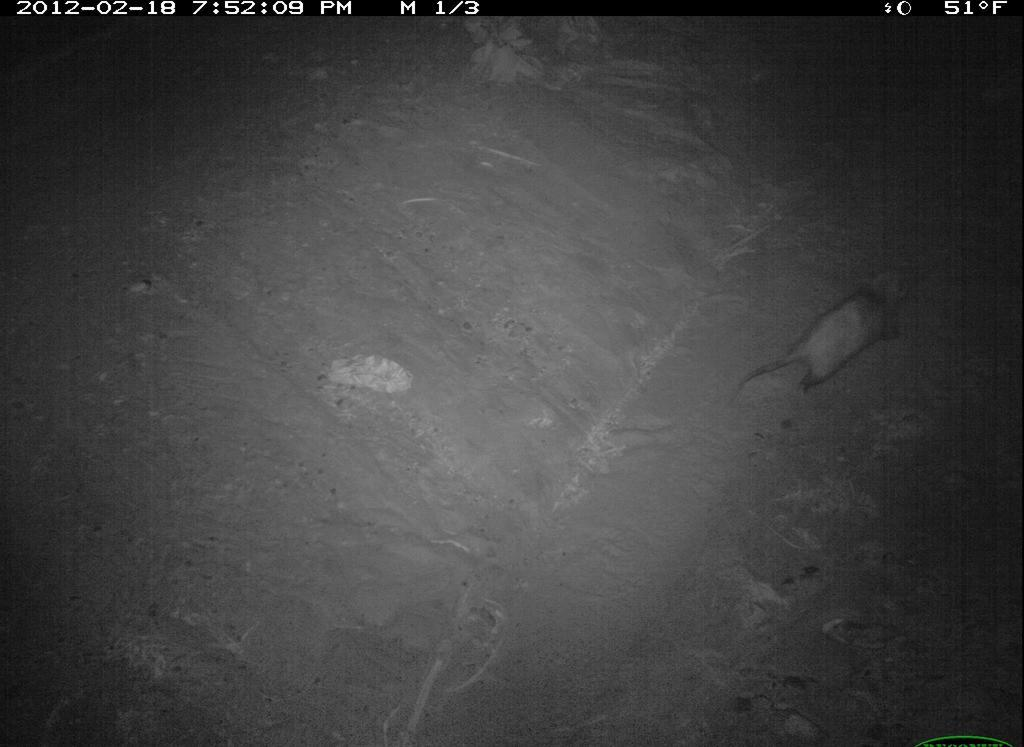opossum: (715, 269, 927, 413)
